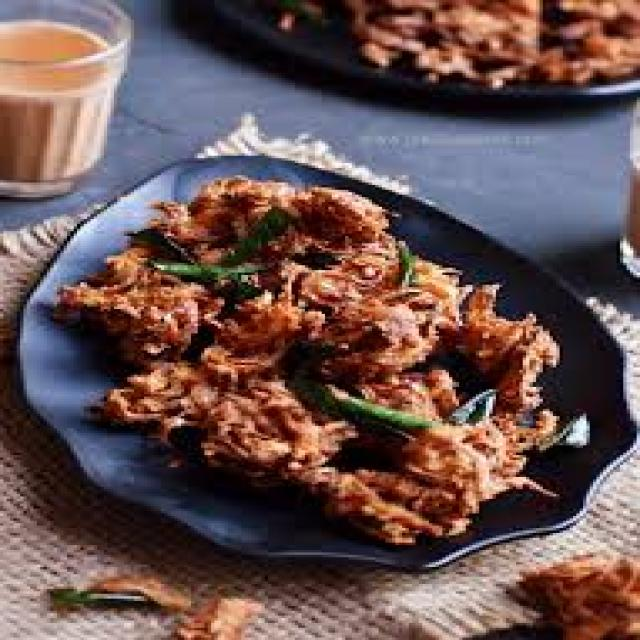BAJI: (61, 178, 574, 552)
